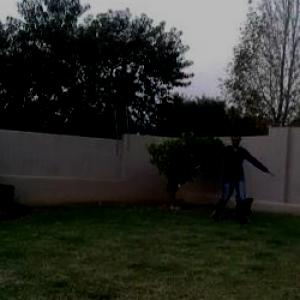land: (180, 125, 268, 229)
